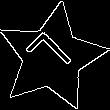L_SE: (23, 29, 81, 86)
